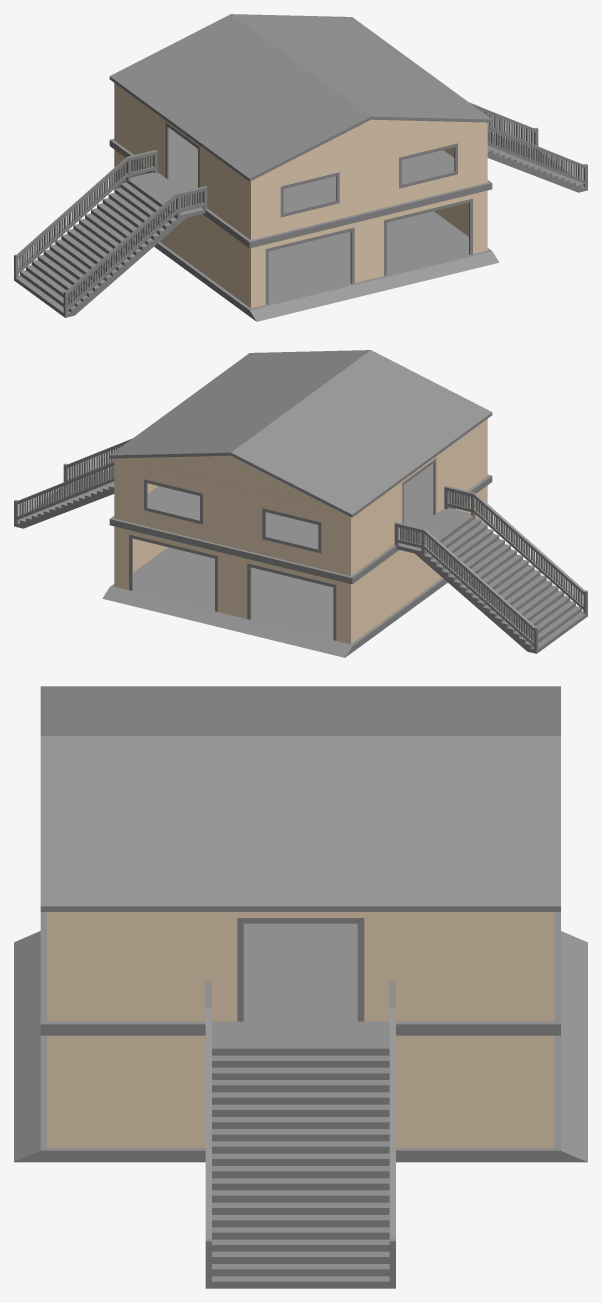
Rendered from ArenaBuilding #4.fbx.
3 renders of one model, top to bottom at view 1: azimuth 30°, elevation 25°; view 2: azimuth 150°, elevation 25°; view 3: azimuth 270°, elevation 25°, orthographic. The views are drawn at different scales.
Visible parts, largest first — view 1: building_001; view 2: building_001; view 3: building_001.
Part boxes in pixels (box(x1,y1,x2,y2)): building_001: box(14, 14, 587, 321); building_001: box(14, 350, 587, 657); building_001: box(14, 686, 587, 1288).
Bounding box in the file's own units: 1766 × 550 × 905.
